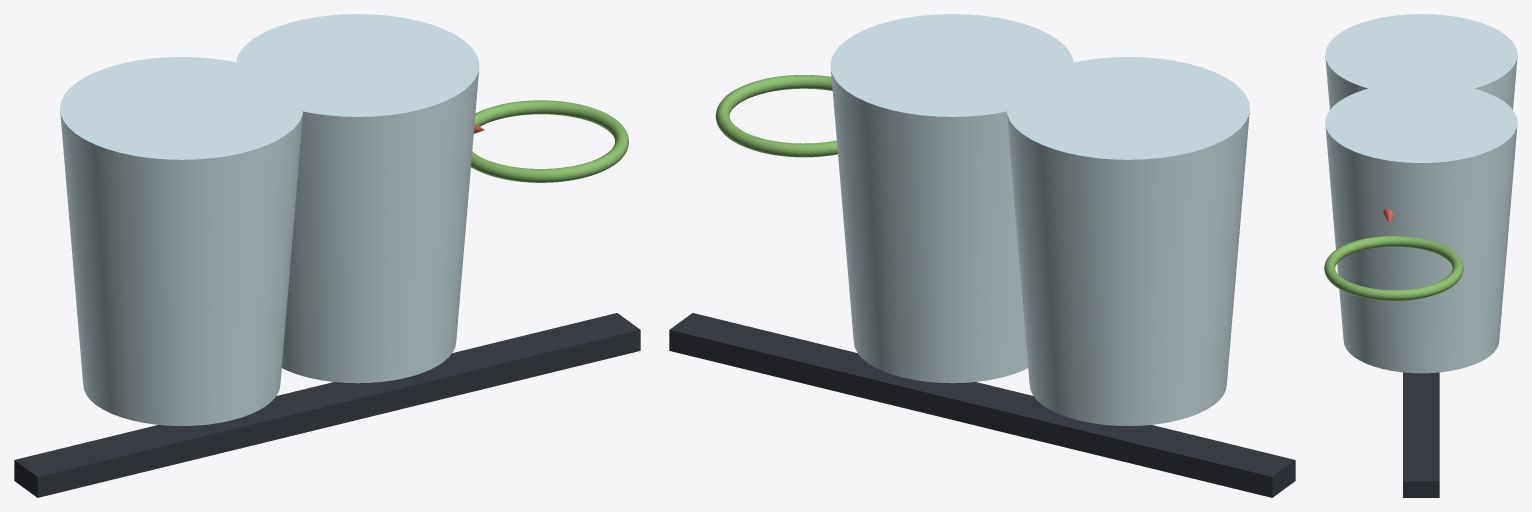
The model's file is chem-stoich-yield.glb.
3 views of the same model, side by side, from view 1: azimuth 30°, elevation 25°; view 2: azimuth 150°, elevation 25°; view 3: azimuth 270°, elevation 25° (orthographic). The views are drawn at different scales.
Visible parts, largest first — view 1: theoretical-yield-vial-glass, actual-yield-vial-glass, stoichiometry-bench, percent-yield-meter; view 2: theoretical-yield-vial-glass, actual-yield-vial-glass, stoichiometry-bench, percent-yield-meter; view 3: actual-yield-vial-glass, theoretical-yield-vial-glass, stoichiometry-bench, percent-yield-meter.
Boxes of the visible parts, x1,y1,x2,y2 form: theoretical-yield-vial-glass: (60,57,303,425); actual-yield-vial-glass: (236,14,479,383); stoichiometry-bench: (14,313,640,497); percent-yield-meter: (471,100,628,182); theoretical-yield-vial-glass: (1006,57,1249,425); actual-yield-vial-glass: (830,14,1073,383); stoichiometry-bench: (669,313,1295,497); percent-yield-meter: (715,75,837,157); actual-yield-vial-glass: (1325,81,1517,373); theoretical-yield-vial-glass: (1325,14,1517,109); stoichiometry-bench: (1403,372,1439,497); percent-yield-meter: (1324,235,1463,300).
Size of what is drawn, in the model's own units: 2.4 by 1.3 by 0.844.
